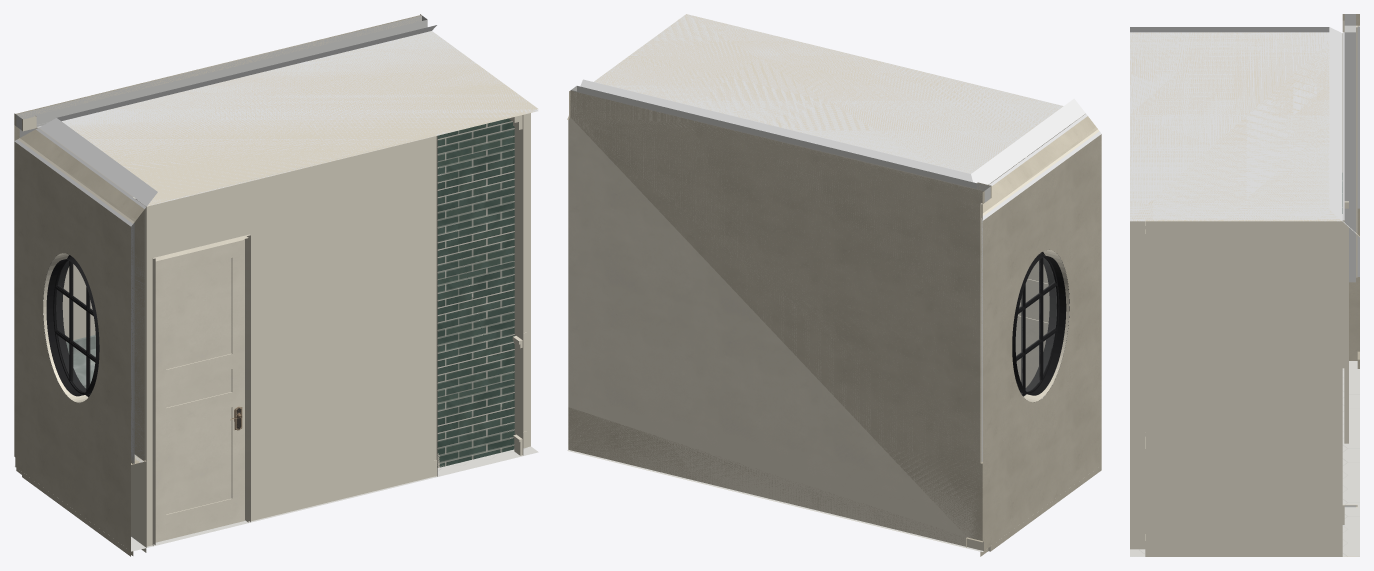
Rendered from green-bath-9b81bbebb2c7.glb.
3 views of the same model, side by side, from view 1: azimuth 30°, elevation 25°; view 2: azimuth 150°, elevation 25°; view 3: azimuth 270°, elevation 25° (orthographic). The views are drawn at different scales.
Parts seen in each view (by area): view 1: green-bath-b6ab44e8ab2b63f4, green-bath-e8793759323e04f0, green-bath-9d91b47435c6fb33, green-bath-235bf0030923b7b8, green-bath-5e646f76b0244fe8, green-bath-312b4ac1be39223d, green-bath-33ee0b466567e5f0, green-bath-9a6873bb27e0e1d8, green-bath-8d8280a2b3ef8b4c, green-bath-ab9cb37e14e8bf16, green-bath-3a4d9d62ecd7be1c, green-bath-39b94aca90fa4b53 (+7 smaller); view 2: green-bath-bd62734a7bc60eb7, green-bath-ca9c0b57f88e5741, green-bath-9d91b47435c6fb33, green-bath-e8793759323e04f0, green-bath-312b4ac1be39223d, green-bath-33ee0b466567e5f0, green-bath-ab9cb37e14e8bf16, green-bath-9a6873bb27e0e1d8, green-bath-af51553f3bbf098a, green-bath-39b94aca90fa4b53, green-bath-5e646f76b0244fe8, green-bath-80d7956de169033e (+1 smaller); view 3: green-bath-4fe5579be934d30a, green-bath-9d91b47435c6fb33, green-bath-e8793759323e04f0, green-bath-689020e0fc226264, green-bath-6ffca0ecbe7bb20f, green-bath-39b94aca90fa4b53, green-bath-7261ca91c9d343ad, green-bath-9a6873bb27e0e1d8, green-bath-82fe871d7bda5383, green-bath-312b4ac1be39223d, green-bath-6852ef8a5e690845, green-bath-bd62734a7bc60eb7 (+1 smaller).
Part boxes in pixels (bbox=[...]): green-bath-b6ab44e8ab2b63f4: bbox=[138, 136, 437, 547]; green-bath-e8793759323e04f0: bbox=[42, 25, 537, 204]; green-bath-9d91b47435c6fb33: bbox=[39, 31, 537, 206]; green-bath-235bf0030923b7b8: bbox=[437, 118, 513, 467]; green-bath-5e646f76b0244fe8: bbox=[155, 239, 244, 542]; green-bath-312b4ac1be39223d: bbox=[14, 125, 133, 464]; green-bath-33ee0b466567e5f0: bbox=[22, 386, 146, 556]; green-bath-9a6873bb27e0e1d8: bbox=[16, 15, 427, 471]; green-bath-8d8280a2b3ef8b4c: bbox=[515, 109, 538, 455]; green-bath-ab9cb37e14e8bf16: bbox=[43, 254, 99, 397]; green-bath-3a4d9d62ecd7be1c: bbox=[35, 127, 146, 461]; green-bath-39b94aca90fa4b53: bbox=[19, 128, 144, 463]; green-bath-bd62734a7bc60eb7: bbox=[567, 91, 983, 547]; green-bath-ca9c0b57f88e5741: bbox=[568, 90, 984, 550]; green-bath-9d91b47435c6fb33: bbox=[594, 14, 1085, 184]; green-bath-e8793759323e04f0: bbox=[580, 14, 1083, 183]; green-bath-312b4ac1be39223d: bbox=[981, 131, 1101, 463]; green-bath-33ee0b466567e5f0: bbox=[988, 377, 1101, 551]; green-bath-ab9cb37e14e8bf16: bbox=[1012, 252, 1069, 397]; green-bath-9a6873bb27e0e1d8: bbox=[571, 86, 990, 550]; green-bath-af51553f3bbf098a: bbox=[1016, 253, 1056, 393]; green-bath-39b94aca90fa4b53: bbox=[982, 116, 1097, 213]; green-bath-5e646f76b0244fe8: bbox=[988, 163, 1049, 387]; green-bath-80d7956de169033e: bbox=[1012, 249, 1069, 402]; green-bath-4fe5579be934d30a: bbox=[1145, 214, 1342, 556]; green-bath-9d91b47435c6fb33: bbox=[1130, 32, 1342, 221]; green-bath-e8793759323e04f0: bbox=[1130, 27, 1340, 219]; green-bath-689020e0fc226264: bbox=[1130, 221, 1145, 549]; green-bath-6ffca0ecbe7bb20f: bbox=[1130, 361, 1359, 556]; green-bath-39b94aca90fa4b53: bbox=[1344, 28, 1355, 282]; green-bath-7261ca91c9d343ad: bbox=[1344, 201, 1348, 443]; green-bath-9a6873bb27e0e1d8: bbox=[1344, 14, 1355, 556]; green-bath-82fe871d7bda5383: bbox=[1342, 14, 1344, 556]; green-bath-312b4ac1be39223d: bbox=[1357, 26, 1359, 276]; green-bath-6852ef8a5e690845: bbox=[1356, 27, 1357, 277]; green-bath-bd62734a7bc60eb7: bbox=[1357, 14, 1359, 368].
Bounding box in the file's own units: 3.62 × 3.04 × 1.8.
32 materials, 6 textured.
